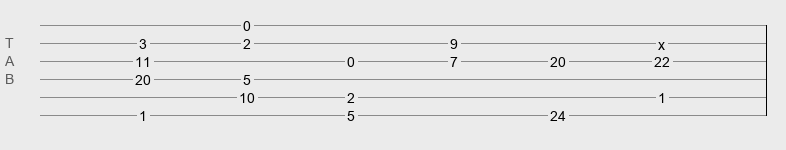0: (243, 18, 251, 28), (347, 54, 355, 64)
1: (139, 108, 147, 118), (658, 90, 666, 100)
10: (239, 90, 255, 100)
11: (135, 54, 151, 64)
2: (243, 36, 251, 46), (347, 90, 355, 100)
20: (135, 72, 151, 82), (550, 54, 566, 64)
22: (654, 54, 670, 64)
24: (550, 108, 566, 118)
3: (139, 36, 147, 46)
5: (243, 72, 251, 82), (347, 108, 355, 118)
7: (450, 54, 458, 64)
9: (450, 36, 458, 46)
x: (658, 37, 665, 45)
